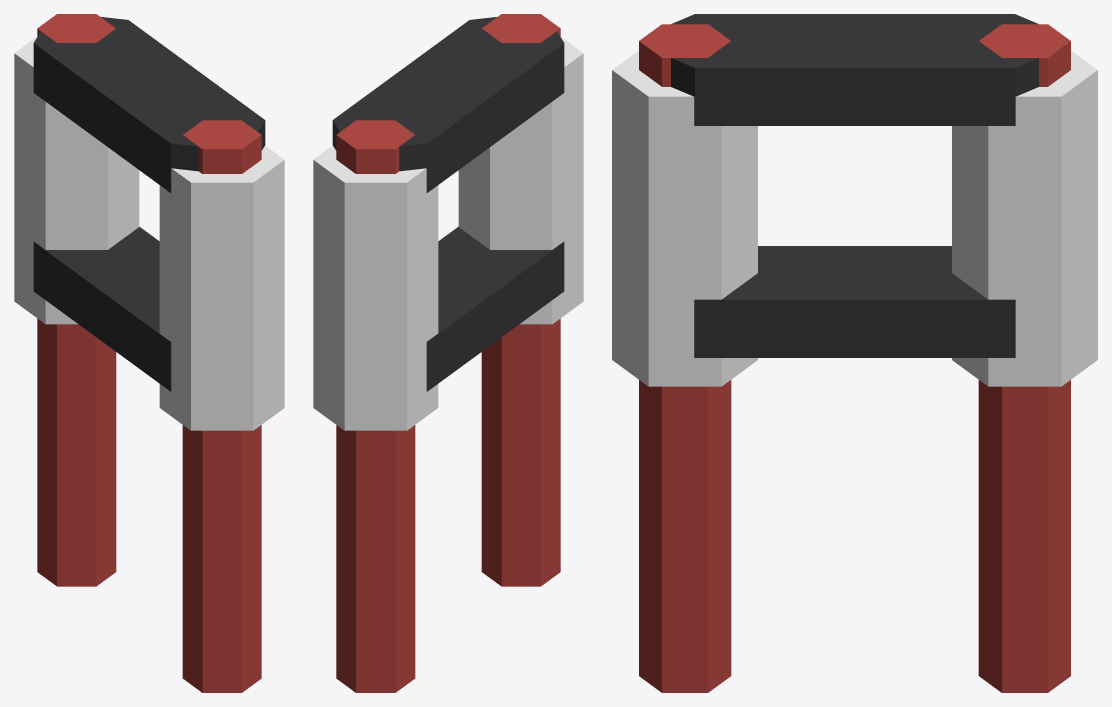
The model's file is bobber_wide_shroud_upper_lod2.glb.
3 renders of one model, left to right at view 1: azimuth 30°, elevation 25°; view 2: azimuth 150°, elevation 25°; view 3: azimuth 270°, elevation 25°, orthographic. The views are drawn at different scales.
Visible parts, largest first — view 1: bobber_wide_shroud_upper_lod2; view 2: bobber_wide_shroud_upper_lod2; view 3: bobber_wide_shroud_upper_lod2.
Boxes of the visible parts, x1,y1,x2,y2 form: bobber_wide_shroud_upper_lod2: (14, 14, 284, 692); bobber_wide_shroud_upper_lod2: (313, 14, 583, 692); bobber_wide_shroud_upper_lod2: (612, 14, 1097, 692).
Size of the model in its own units: 0.08 by 0.438 by 0.3036.
